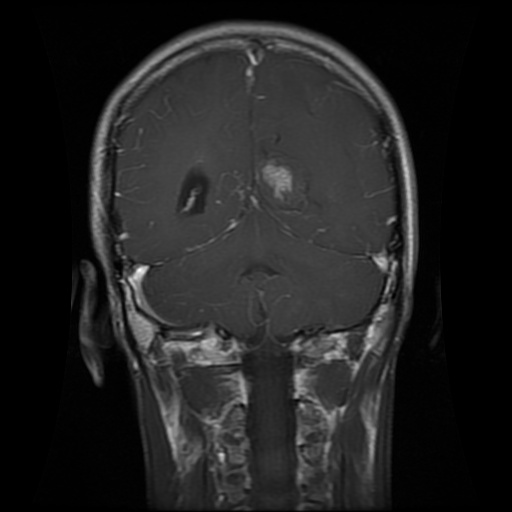glioma: (235, 144, 324, 216)
